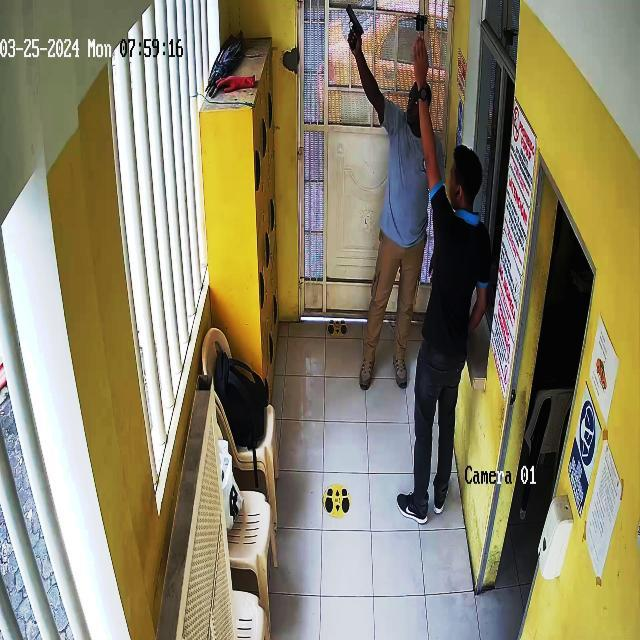Gun: (341, 0, 387, 52)
